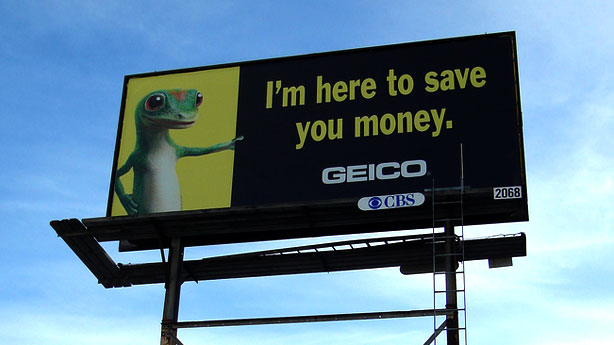Geico: (319, 154, 431, 185)
